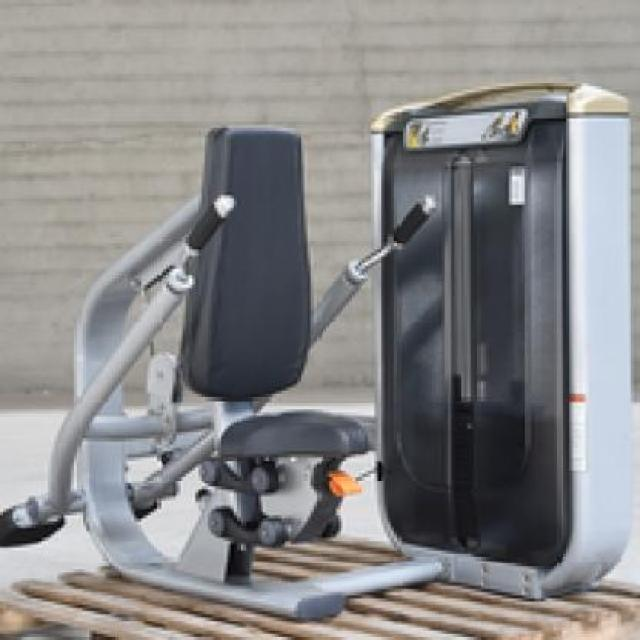seated dip machine: (1, 80, 640, 623)
